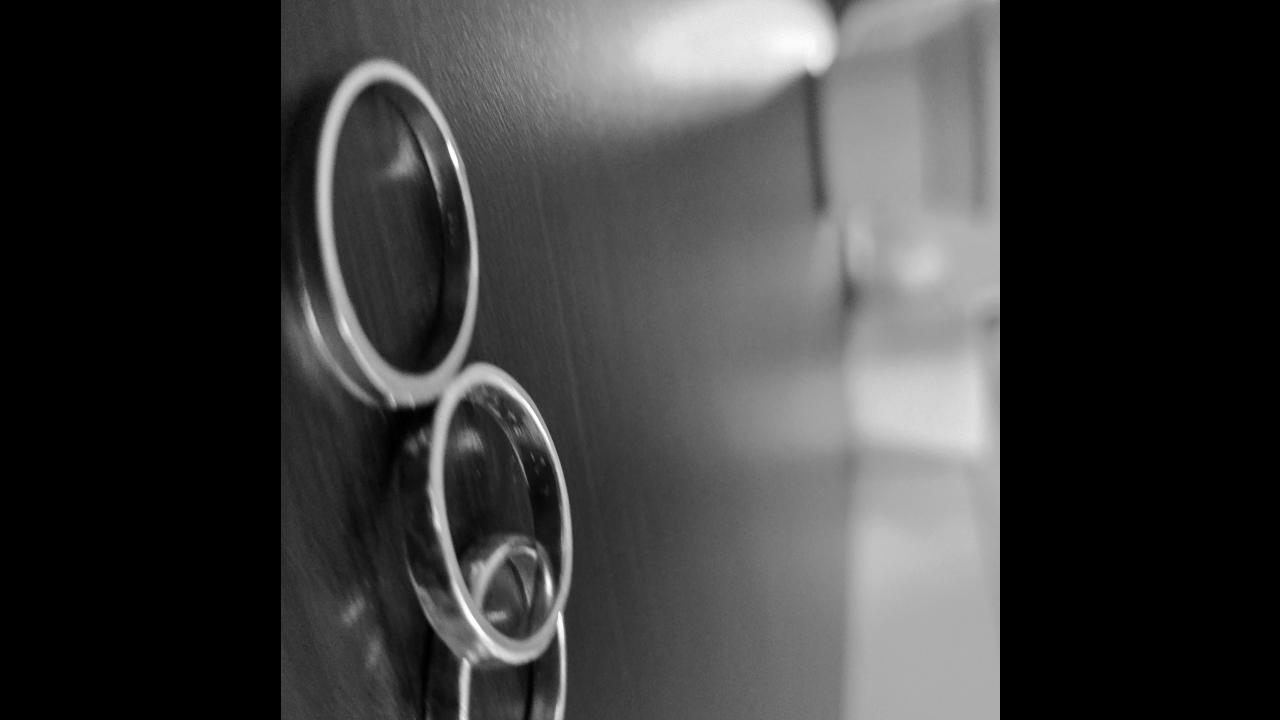ring: (289, 50, 480, 398), (387, 363, 576, 671), (423, 587, 569, 720)
